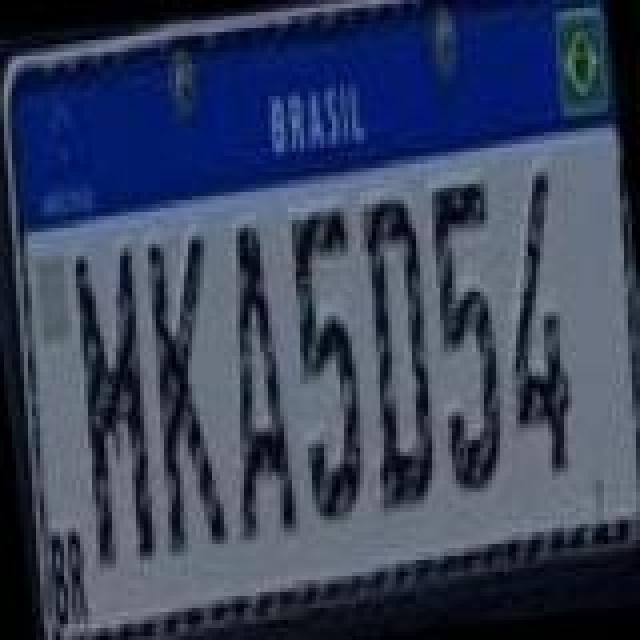4: (486, 168, 586, 480)
5: (274, 200, 382, 528), (416, 178, 520, 494)
A: (200, 222, 296, 546)
D: (342, 192, 450, 520)
K: (128, 230, 240, 562)
M: (56, 242, 168, 574)
